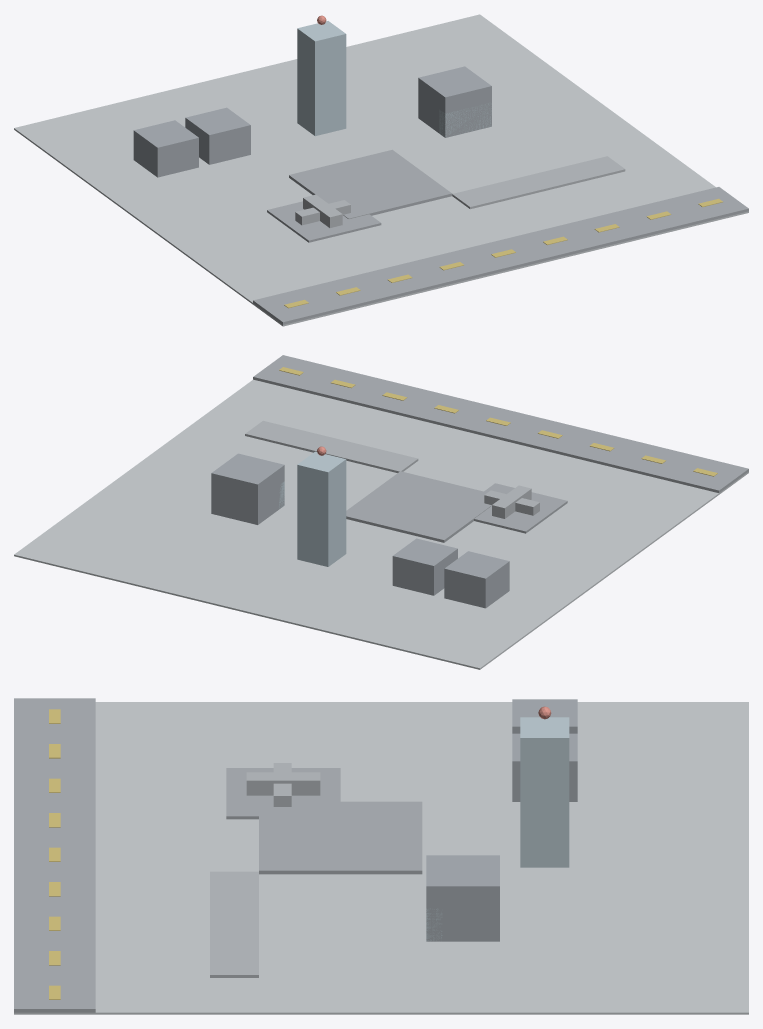
File: stage_07.glb
3 views of the same model, one above another, from view 1: azimuth 30°, elevation 25°; view 2: azimuth 150°, elevation 25°; view 3: azimuth 270°, elevation 25° (orthographic). The views are drawn at different scales.
Visible parts, largest first — view 1: geometry_0; view 2: geometry_0; view 3: geometry_0.
Boxes of the visible parts, x1,y1,x2,y2 form: geometry_0: (14, 14, 748, 326); geometry_0: (14, 355, 748, 669); geometry_0: (14, 698, 748, 1014).
Size of the model in its own units: 9 by 2.06 by 9.
